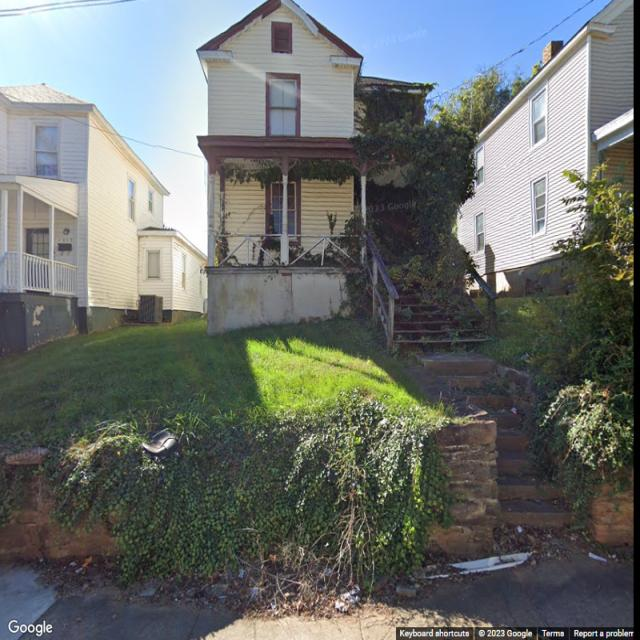House: (195, 0, 480, 335), (0, 82, 207, 354), (456, 0, 634, 299)
